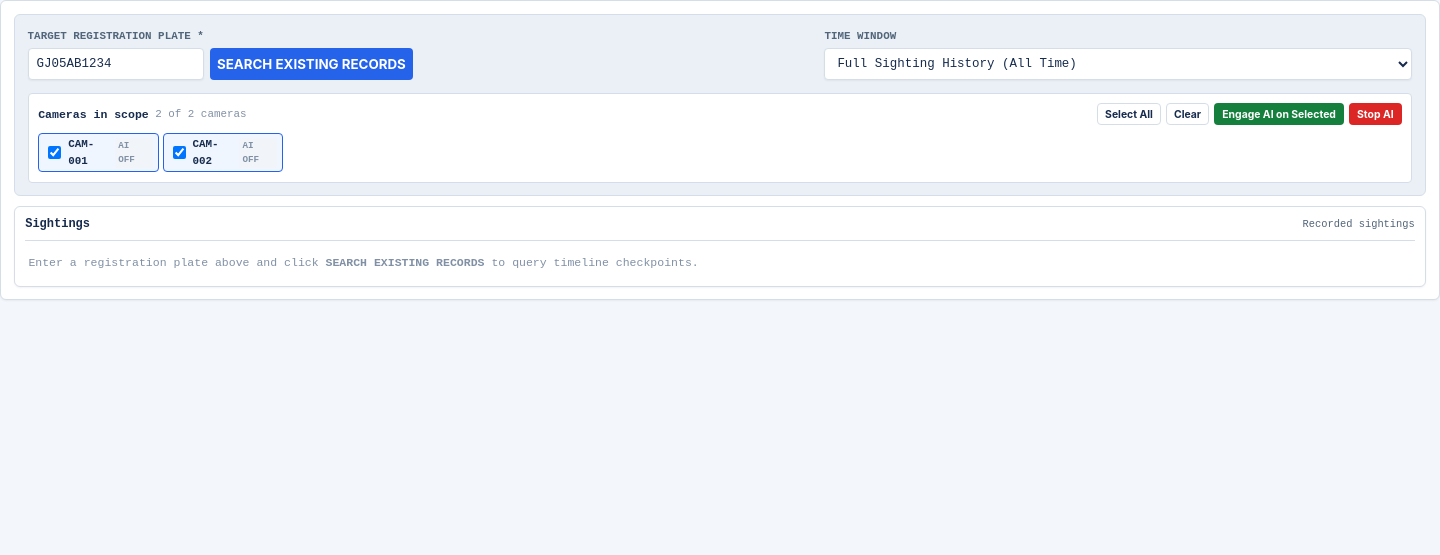
Test case: sightings list › lists every recorded sighting
Click the button "SEARCH EXISTING RECORDS" at [311, 64], box [210, 48, 413, 80]
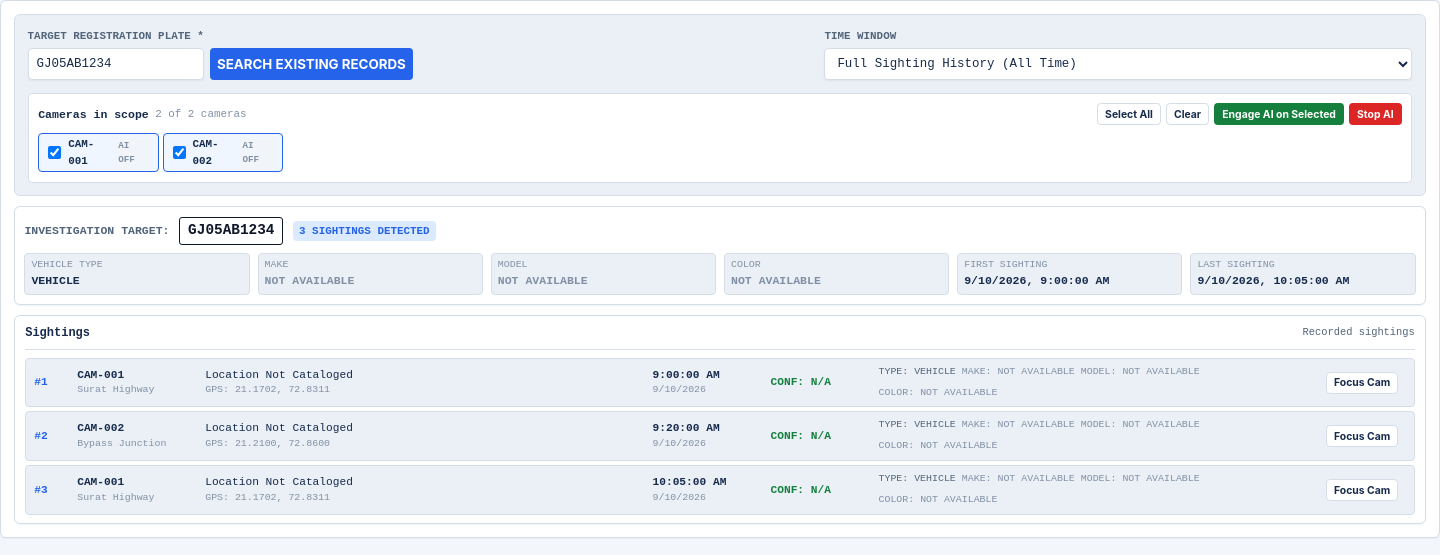
Expected: the element with test id "sighting-row-501" is shown, [25, 358, 1415, 407]
Expected: the element with test id "sighting-row-502" is shown, [25, 411, 1415, 461]
Expected: the element with test id "sighting-row-503" is shown, [25, 465, 1415, 515]
